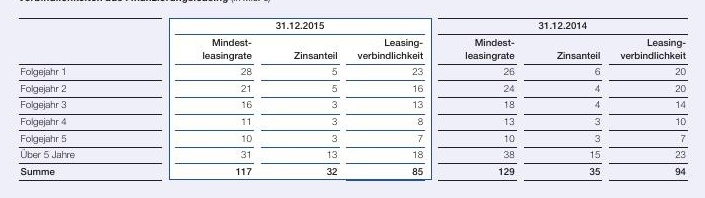table: (0, 0, 705, 198)
